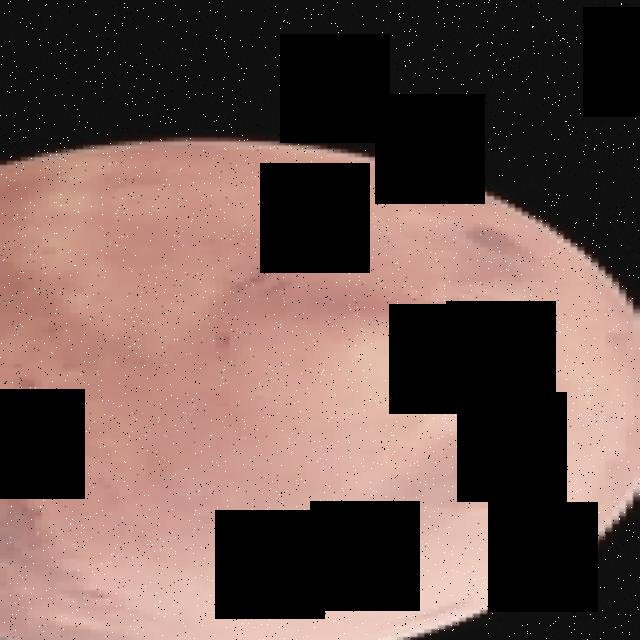Mars: (0, 137, 640, 640)
